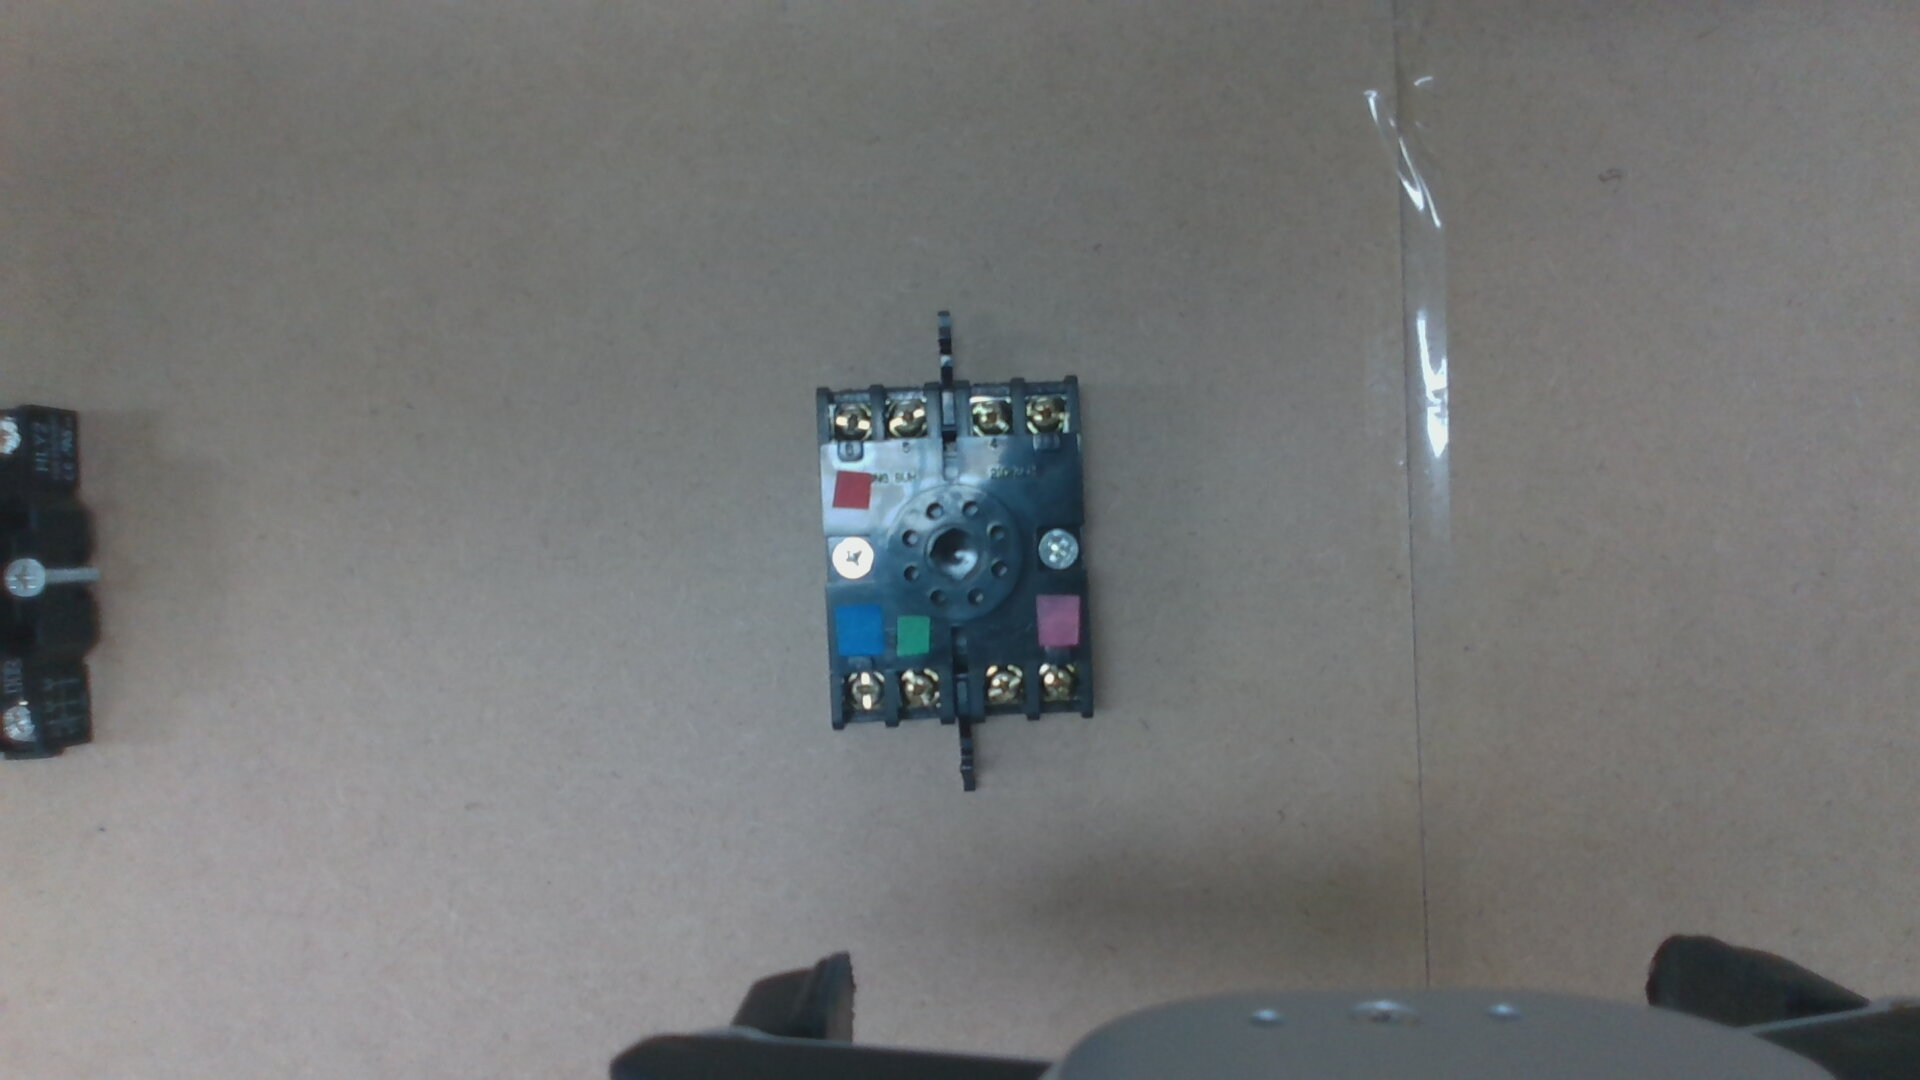timer 2: (1038, 665, 1073, 700)
timer 6: (831, 404, 870, 439)
timer 7: (845, 673, 882, 708)
timer 8: (899, 673, 938, 705)
